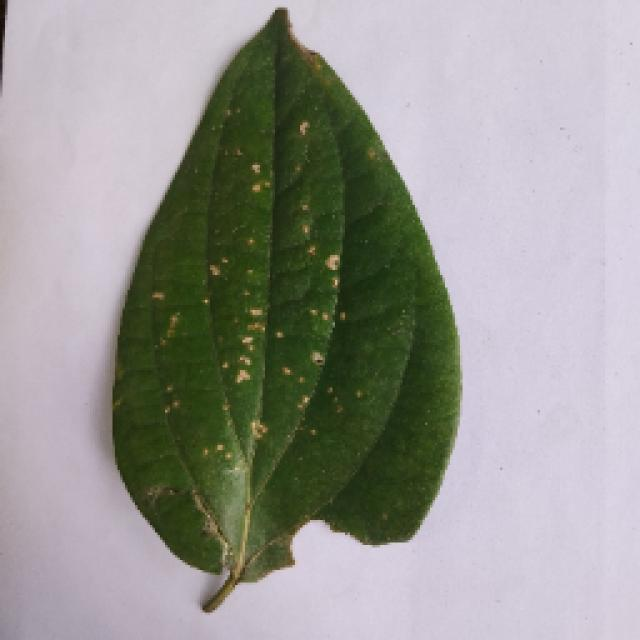pollu-disease: (93, 17, 465, 605)
